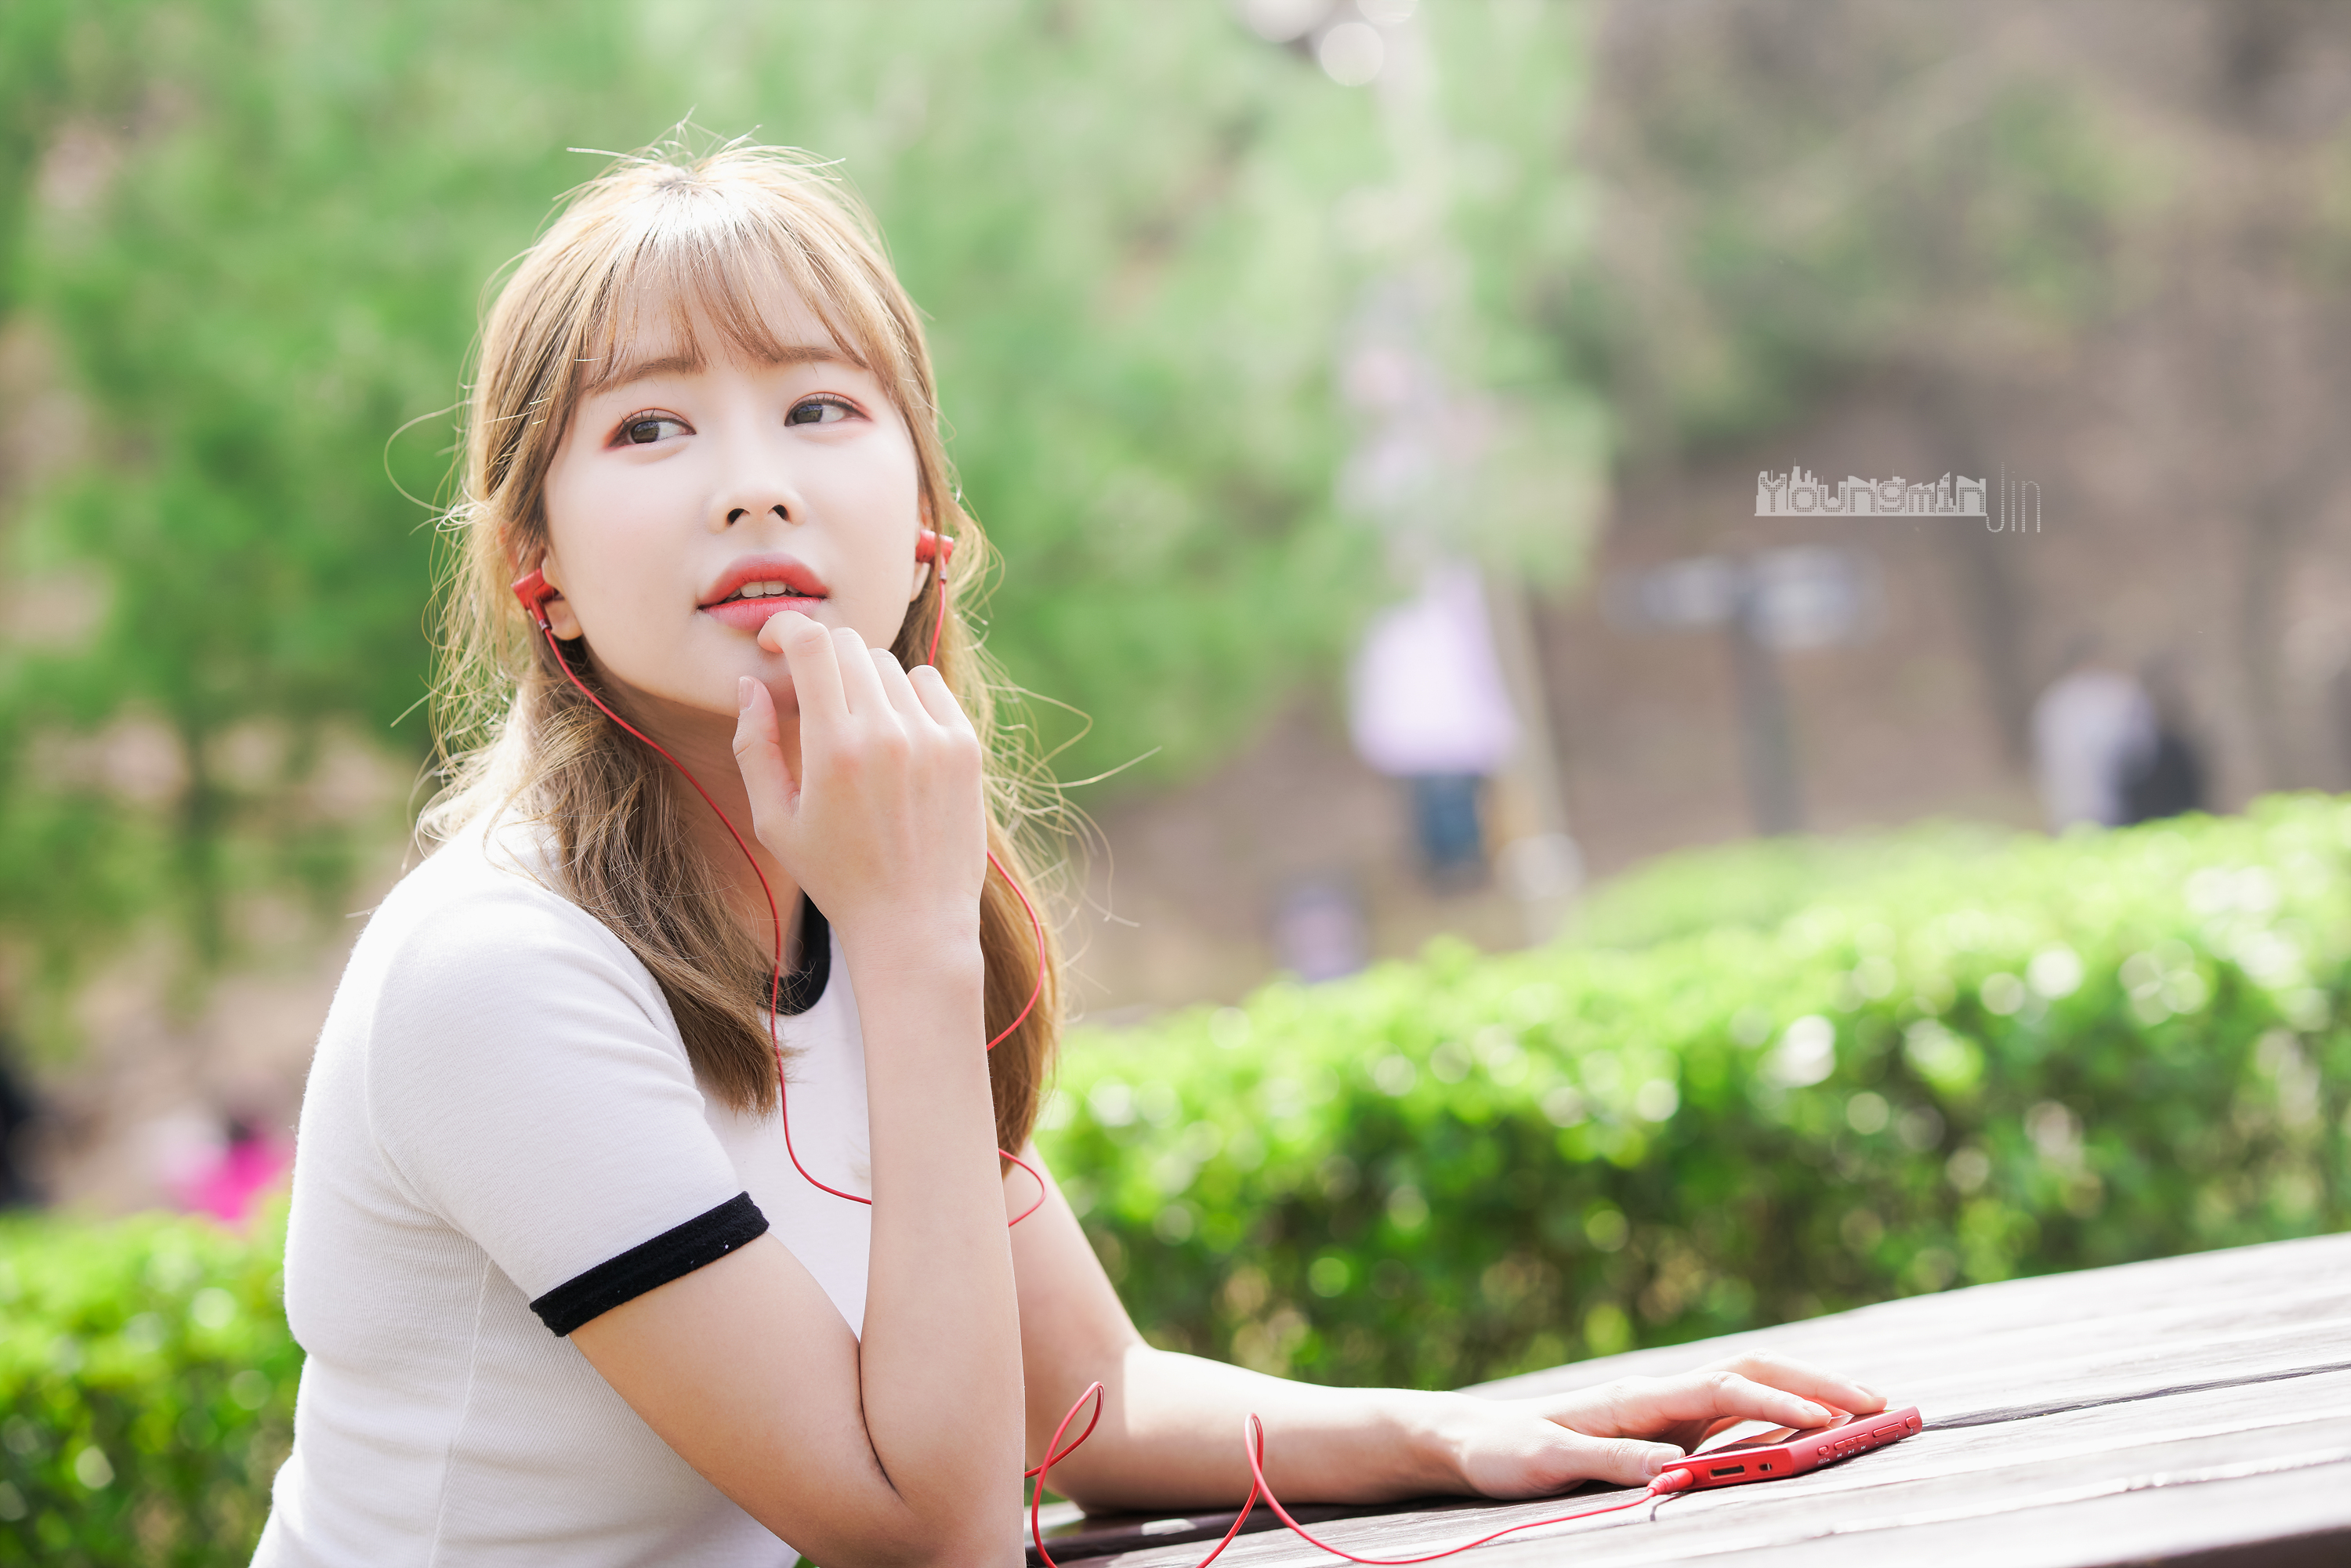earphone: (497, 520, 586, 640), (911, 490, 955, 604)
